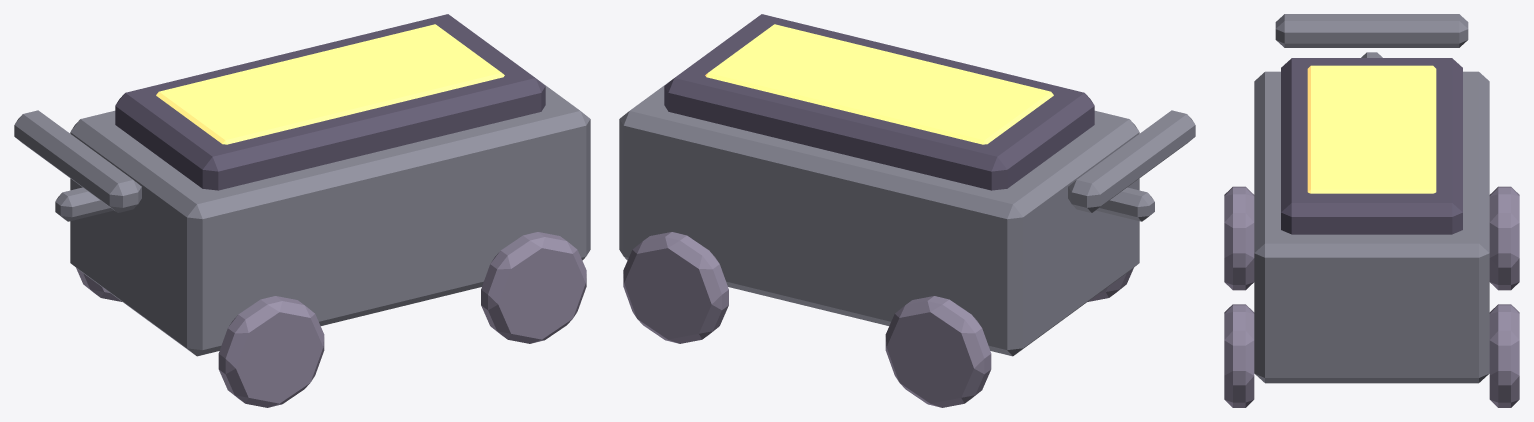
Rendered from ember_coal_cart.glb.
The picture shows the model from 3 angles, left to right: view 1: azimuth 30°, elevation 25°; view 2: azimuth 150°, elevation 25°; view 3: azimuth 270°, elevation 25°; orthographic projection. The views are drawn at different scales.
Parts seen in each view (by area): view 1: ember_coal_cart_Body, ember_coal_cart_Wheels.001, ember_coal_cart_Handle.001; view 2: ember_coal_cart_Body, ember_coal_cart_Wheels.001, ember_coal_cart_Handle.001; view 3: ember_coal_cart_Body, ember_coal_cart_Wheels.001, ember_coal_cart_Handle.001.
Boxes of the visible parts, left/top/right/bottom form: ember_coal_cart_Body: left=70, top=14, right=590, bottom=356; ember_coal_cart_Wheels.001: left=76, top=232, right=586, bottom=407; ember_coal_cart_Handle.001: left=14, top=110, right=141, bottom=221; ember_coal_cart_Body: left=619, top=14, right=1139, bottom=356; ember_coal_cart_Wheels.001: left=623, top=232, right=1133, bottom=407; ember_coal_cart_Handle.001: left=1068, top=110, right=1195, bottom=221; ember_coal_cart_Body: left=1254, top=58, right=1489, bottom=383; ember_coal_cart_Wheels.001: left=1224, top=186, right=1519, bottom=407; ember_coal_cart_Handle.001: left=1275, top=14, right=1468, bottom=57.
Bounding box in the file's own units: 2.35 × 1.12 × 1.38.
